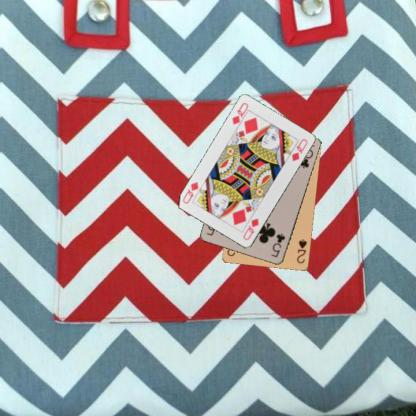2s: (294, 237, 308, 265)
5c: (268, 231, 286, 259)
Qd: (230, 100, 250, 130), (240, 216, 260, 242)
